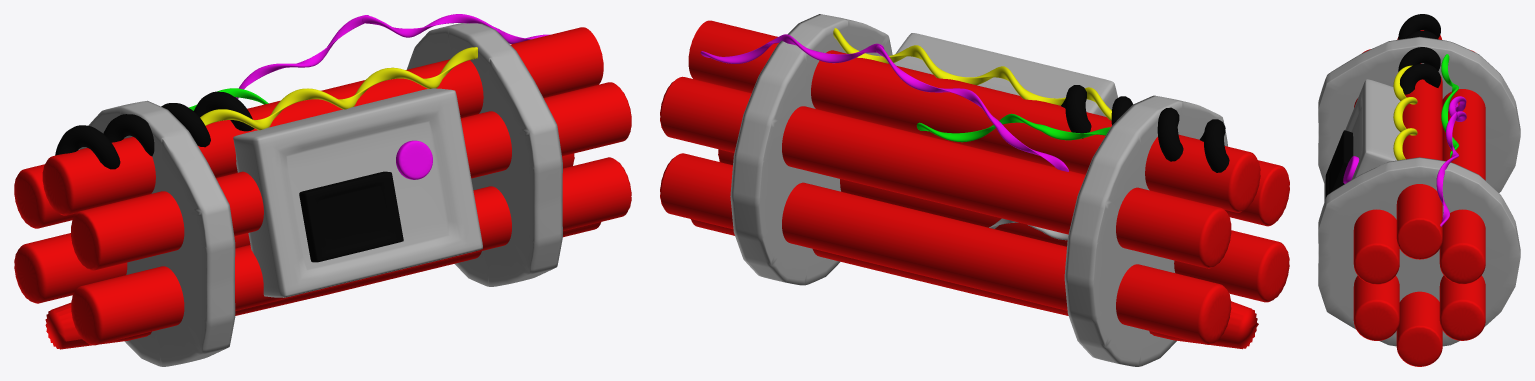
The model's file is bomberman.fbx.
3 renders of one model, left to right at view 1: azimuth 30°, elevation 25°; view 2: azimuth 150°, elevation 25°; view 3: azimuth 270°, elevation 25°, orthographic. The views are drawn at different scales.
Visible parts, largest first — view 1: IHAVEABOMB1; view 2: IHAVEABOMB1; view 3: IHAVEABOMB1.
Part boxes in pixels (box(x1,y1,x2,y2)): IHAVEABOMB1: box(14, 14, 631, 366); IHAVEABOMB1: box(660, 14, 1289, 366); IHAVEABOMB1: box(1318, 14, 1520, 366).
Bounding box in the file's own units: 4.61 × 2.18 × 2.
